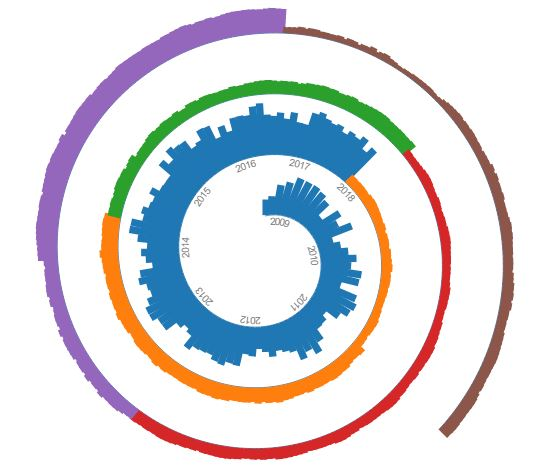

What the dashboard file says about the page in this screenshot:
{"tool":"tableau","page":{"name":"Splicer","canvas":[800,800],"ordinal":2},"visuals":[{"type":"title","box":[8,8,784,36]},{"type":"filter","title":"Sheet 13","param":"[federated.06imq540uiyrxk1gxsq1z1rj250u].[none:STATE_:nk]","box":[8,44,106.8,160]},{"type":"worksheet","title":"Sheet 13","mark":"Automatic","rows":["Calculation_277252908816171009"],"cols":["Calculation_277252908813328384"],"box":[114.8,44,677.2,715.7]},{"type":"filter","title":"Sheet 13","param":"[federated.06imq540uiyrxk1gxsq1z1rj250u].[none:CITY_:nk]","box":[8,204,106.8,49]},{"type":"parameter","param":"[Parameters].[DATE_ Parameter]","box":[8,253,106.8,87]},{"type":"parameter","param":"[Parameters].[Parameter 1]","box":[8,340,106.8,119]},{"type":"worksheet","title":"footer_1","mark":"Automatic","box":[114.8,759.7,677.2,32.3]}]}

Visuals, with their boxes on the page's 800x800 design canvas (x1, y1, x2, y2). These are canvas units, not pixel positions in the 545x475 screenshot, which may show the page scaled, cropped or inside an application window:
title: x1=8 y1=8 x2=792 y2=44
"Sheet 13" filter: x1=8 y1=44 x2=115 y2=204
"Sheet 13" worksheet: x1=115 y1=44 x2=792 y2=760
"Sheet 13" filter: x1=8 y1=204 x2=115 y2=253
parameter: x1=8 y1=253 x2=115 y2=340
parameter: x1=8 y1=340 x2=115 y2=459
"footer_1" worksheet: x1=115 y1=760 x2=792 y2=792
